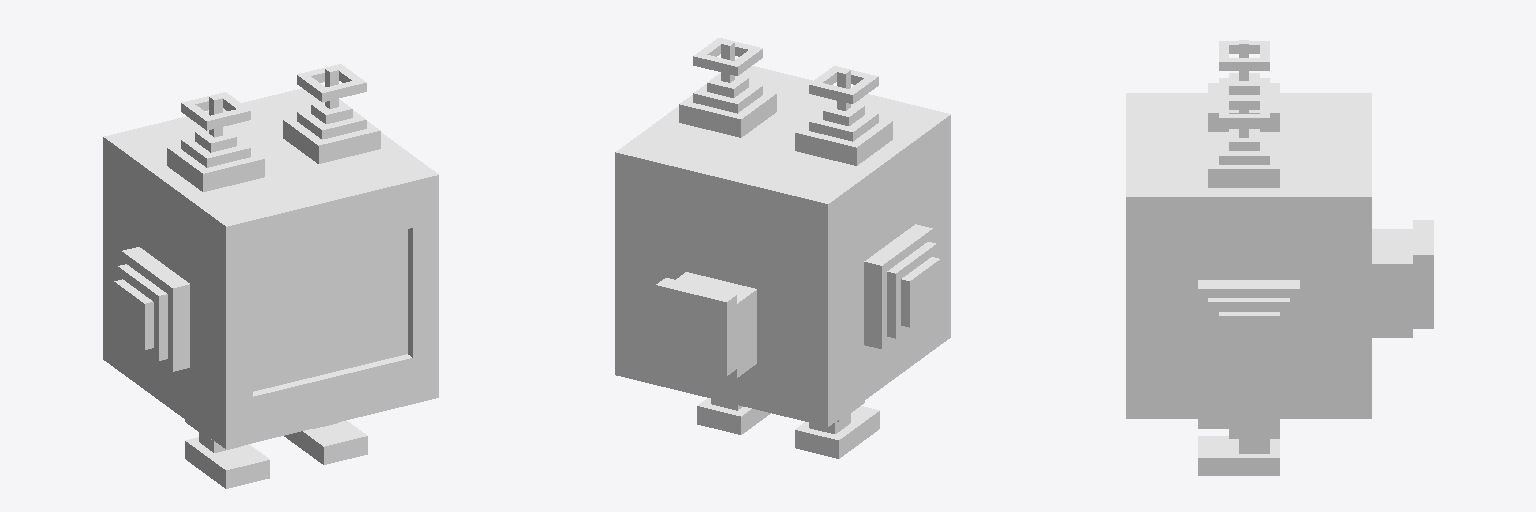
The model's file is Robozinho2.obj.
The picture shows the model from 3 angles: view 1: azimuth 30°, elevation 25°; view 2: azimuth 150°, elevation 25°; view 3: azimuth 270°, elevation 25°; orthographic projection.
Visible parts, largest first — view 1: object 1; view 2: object 1; view 3: object 1.
Boxes of the visible parts, x1,y1,x2,y2 form: object 1: [103, 64, 438, 488]; object 1: [615, 38, 950, 458]; object 1: [1126, 40, 1433, 475].
Bounding box in the file's own units: 3.2 × 4 × 3.